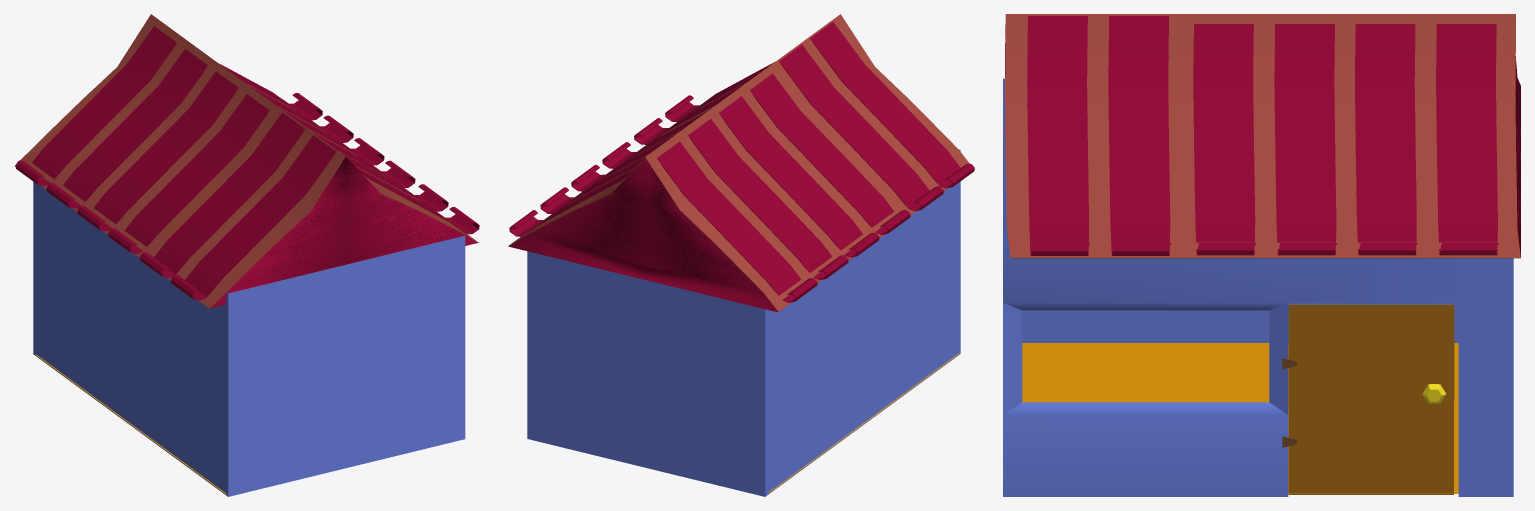
The model's file is SK_Casa_Azul.fbx.
3 renders of one model, left to right at view 1: azimuth 30°, elevation 25°; view 2: azimuth 150°, elevation 25°; view 3: azimuth 270°, elevation 25°, orthographic. The views are drawn at different scales.
Parts seen in each view (by area): view 1: Casa_azul; view 2: Casa_azul; view 3: Casa_azul.
Boxes of the visible parts, x1=… form: Casa_azul: x1=15, y1=14, x2=479, y2=496; Casa_azul: x1=508, y1=14, x2=974, y2=496; Casa_azul: x1=1003, y1=14, x2=1520, y2=496.
Bounding box in the file's own units: 1.38 × 1.43 × 1.65.
